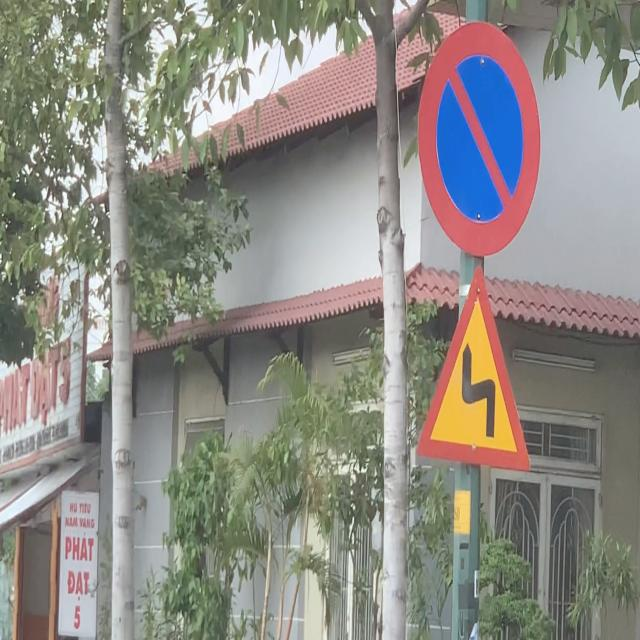Cam do: (412, 5, 548, 259)
Nguy hiem: (406, 256, 538, 482)
